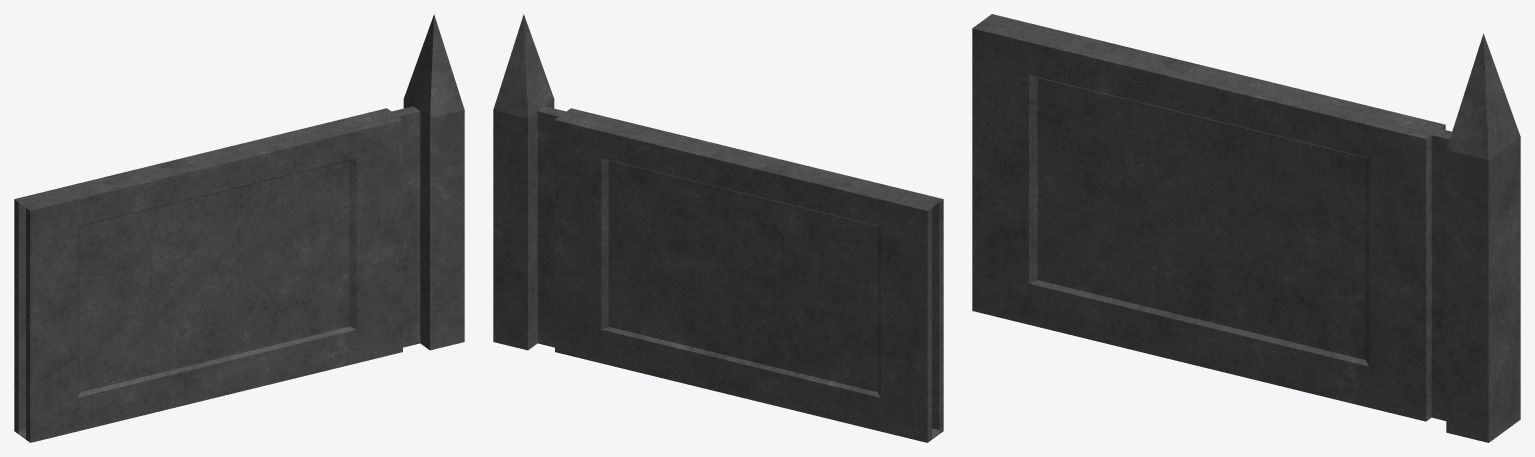
The model's file is wall_end_right.fbx.
3 renders of one model, left to right at view 1: azimuth 30°, elevation 25°; view 2: azimuth 150°, elevation 25°; view 3: azimuth 330°, elevation 25°, orthographic. The views are drawn at different scales.
Parts seen in each view (by area): view 1: wall_end_right; view 2: wall_end_right; view 3: wall_end_right.
Part boxes in pixels (x1,y1,x2,y2): wall_end_right: (14, 14, 464, 442); wall_end_right: (493, 14, 943, 442); wall_end_right: (972, 14, 1520, 442).
Size of the model in its own units: 570 by 410 by 60.61.
